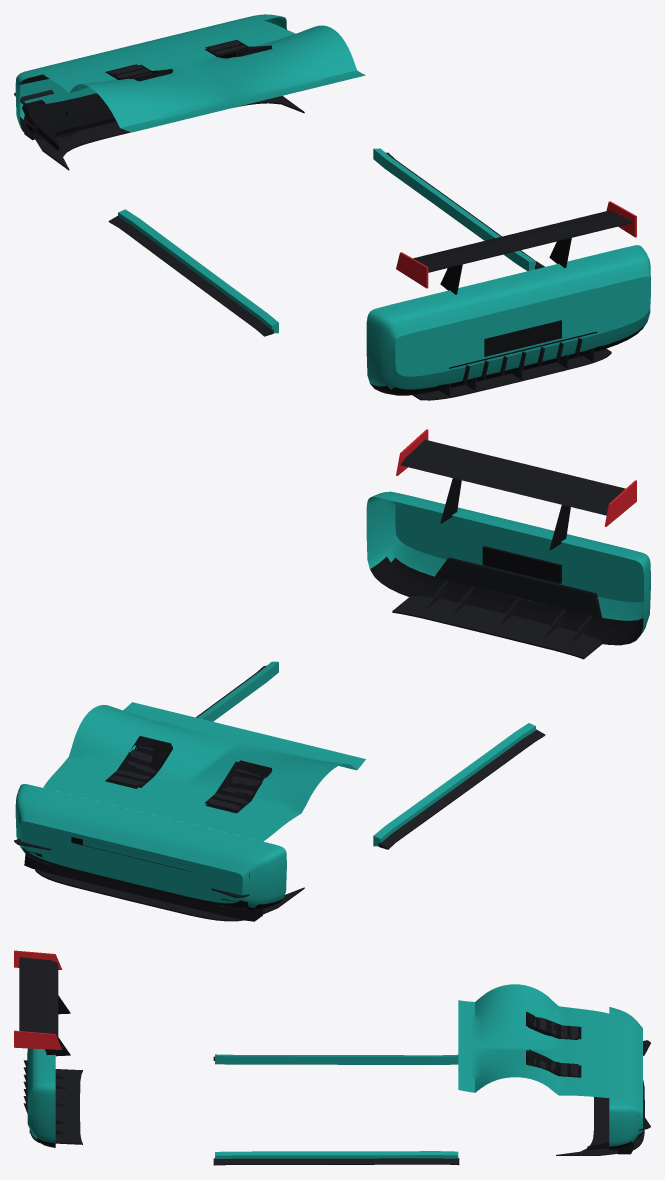
The model's file is kit_track.glb.
3 renders of one model, top to bottom at view 1: azimuth 30°, elevation 25°; view 2: azimuth 150°, elevation 25°; view 3: azimuth 270°, elevation 25°, orthographic. The views are drawn at different scales.
Parts seen in each view (by area): view 1: bumper_rear__track, hood__track, bumper_front__track, skirts__track, spoiler__track; view 2: bumper_front__track, hood__track, bumper_rear__track, spoiler__track, skirts__track; view 3: hood__track, bumper_front__track, skirts__track, bumper_rear__track, spoiler__track.
Part boxes in pixels (x1,y1,x2,y2): bumper_rear__track: (366, 245, 650, 400); hood__track: (43, 20, 365, 132); bumper_front__track: (14, 14, 650, 376); skirts__track: (108, 148, 544, 336); spoiler__track: (396, 201, 636, 294); bumper_front__track: (14, 502, 643, 921); hood__track: (43, 702, 365, 841); bumper_rear__track: (366, 491, 650, 659); spoiler__track: (396, 429, 636, 549); skirts__track: (196, 661, 545, 849); hood__track: (458, 984, 609, 1097); bumper_front__track: (556, 1007, 650, 1155); skirts__track: (213, 1054, 459, 1165); bumper_rear__track: (23, 1048, 82, 1147); spoiler__track: (14, 950, 70, 1056).
Size of what is drawn, in the model's own units: 1.96 by 1.03 by 4.89.
